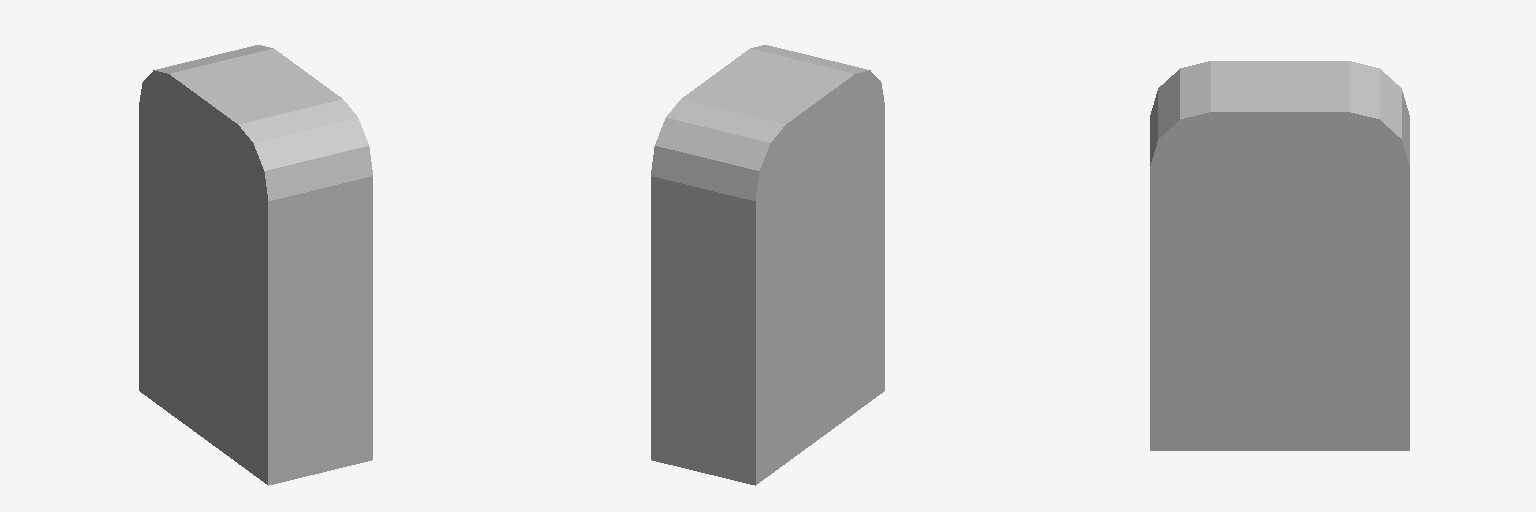
3 renders of one model, left to right at view 1: azimuth 30°, elevation 25°; view 2: azimuth 150°, elevation 25°; view 3: azimuth 270°, elevation 25°, orthographic.
Visible parts, largest first — view 1: SciFi_Prop_25_3; view 2: SciFi_Prop_25_3; view 3: SciFi_Prop_25_3.
Part boxes in pixels (x1,y1,x2,y2): SciFi_Prop_25_3: (139,45,372,485); SciFi_Prop_25_3: (651,45,884,485); SciFi_Prop_25_3: (1150,61,1409,450).
Size of the model in its own units: 0.4238 by 1.31 by 0.9085.